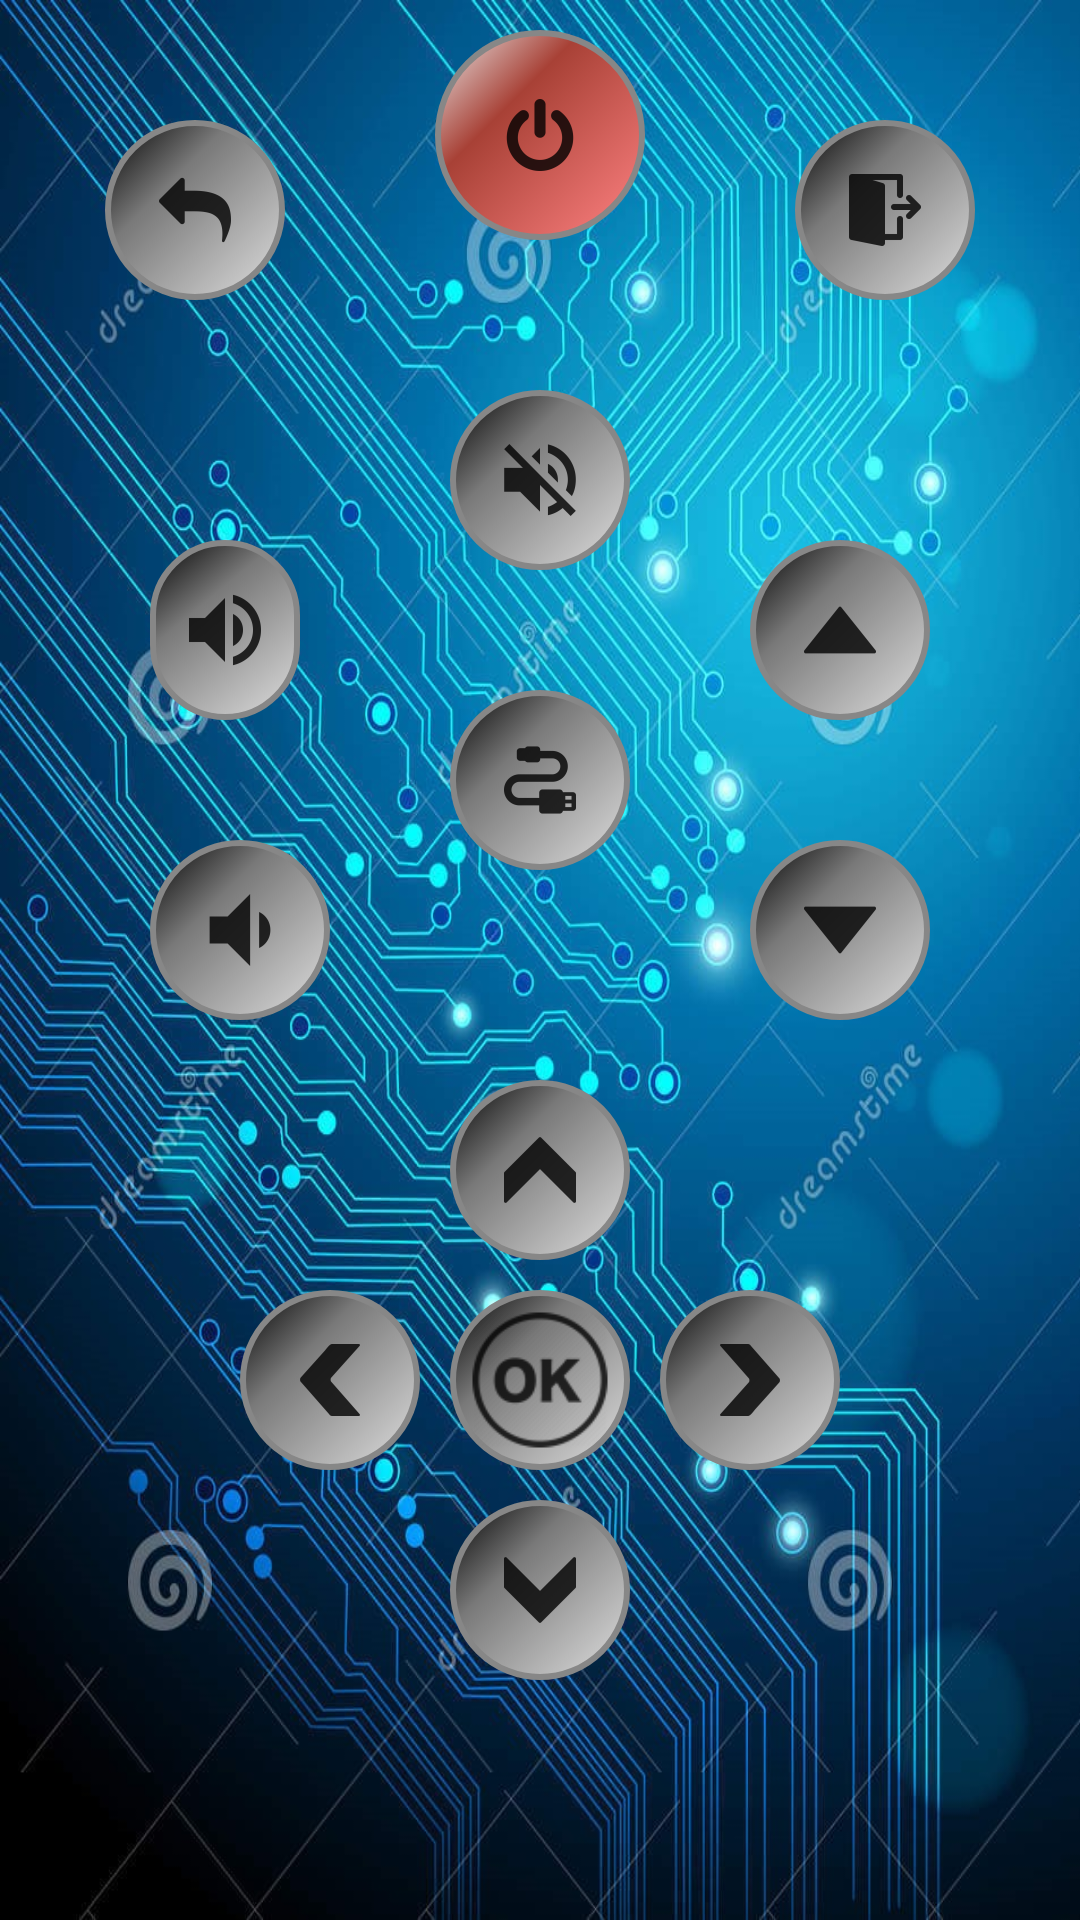

Where to tap for icons on this 1080x1920 app screen, as [x,y]:
back: [195,210]
cable: [540,780]
down: [540,1590]
down triangle: [840,930]
exit: [885,210]
left: [330,1380]
mute: [540,480]
power: [540,135]
right: [750,1380]
up triangle: [840,630]
volume down: [240,930]
volume up: [225,630]
